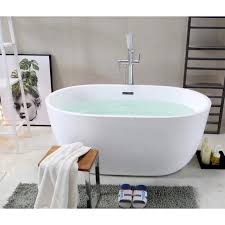bathub: (42, 81, 215, 183)
